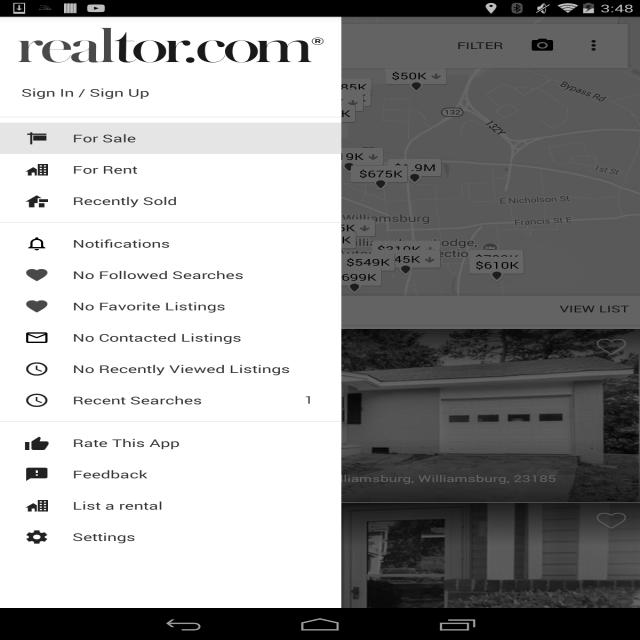ImageButton: (542, 501, 640, 575), (550, 460, 632, 523), (21, 24, 80, 67), (581, 329, 640, 366), (581, 503, 640, 540)
ImageView: (0, 329, 640, 502), (0, 503, 640, 640), (0, 16, 341, 74), (242, 556, 398, 604), (17, 126, 57, 151), (17, 157, 57, 182), (17, 231, 57, 256), (17, 294, 57, 319), (17, 325, 57, 350), (17, 388, 57, 413), (17, 462, 57, 487), (17, 493, 57, 518), (14, 551, 78, 566), (17, 189, 57, 213), (17, 263, 57, 287), (17, 357, 57, 381), (17, 431, 57, 455), (17, 525, 57, 549), (123, 456, 140, 466), (510, 31, 517, 37)
TextView: (107, 472, 640, 485), (0, 73, 166, 111), (10, 302, 458, 315), (72, 393, 294, 407), (73, 362, 290, 376), (72, 330, 242, 345), (73, 268, 244, 282), (72, 299, 226, 313), (444, 31, 517, 60), (17, 488, 198, 499), (27, 449, 118, 468), (517, 29, 568, 62), (568, 29, 619, 62), (98, 38, 212, 52), (72, 436, 180, 450), (73, 194, 177, 208), (73, 236, 170, 251), (72, 498, 162, 513), (73, 467, 147, 481), (72, 162, 138, 177), (560, 302, 630, 315), (72, 530, 136, 544), (73, 131, 136, 145), (140, 455, 200, 467), (294, 392, 324, 408), (17, 472, 46, 485), (57, 472, 86, 485), (17, 451, 27, 465), (94, 472, 99, 485)
